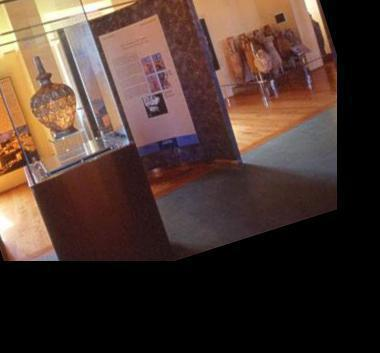Otro Obstaculo: (222, 13, 318, 109)
